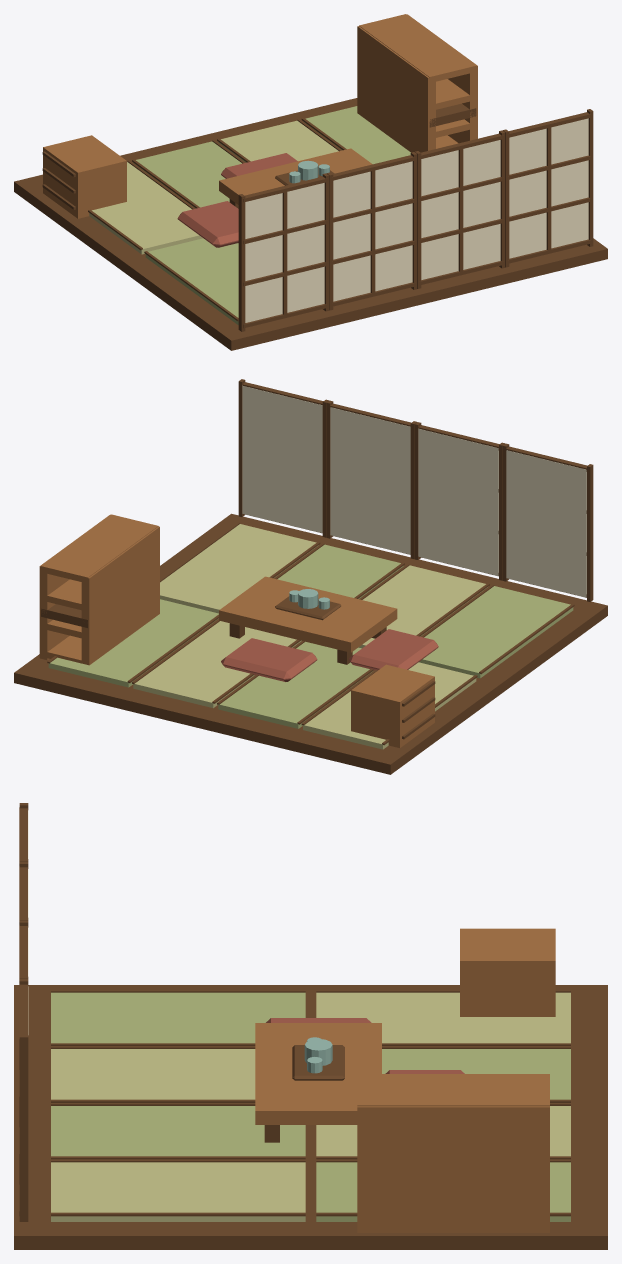
The model's file is grandma_interior.glb.
3 views of the same model, one above another, from view 1: azimuth 30°, elevation 25°; view 2: azimuth 150°, elevation 25°; view 3: azimuth 270°, elevation 25° (orthographic). The views are drawn at different scales.
Visible parts, largest first — view 1: FloorBase, ShojiPaper_3, ShojiPaper_1, ShojiPaper_0, ShojiPaper_2, ShelfLeft, SmallChest, Tatami_1_0, Tatami_0_0, Tatami_1_1, Shelf_1.75, Tatami_1_2 (+32 smaller); view 2: FloorBase, ShojiPaper_0, ShojiPaper_2, ShojiPaper_3, ShojiPaper_1, Tatami_0_0, Tatami_0_3, ShelfLeft, LowTableTop, Tatami_1_1, Tatami_1_2, Tatami_1_3 (+20 smaller); view 3: FloorBase, ShelfRight, Tatami_0_3, Tatami_0_0, Tatami_0_2, Tatami_0_1, LowTableTop, Tatami_1_0, SmallChest, Shelf_1.75, Tatami_1_1, Tatami_1_3 (+13 smaller).
Boxes of the visible parts, bbox=[...] form: FloorBase: bbox=[14, 98, 607, 350]; ShojiPaper_3: bbox=[509, 118, 588, 258]; ShojiPaper_1: bbox=[333, 161, 412, 301]; ShojiPaper_0: bbox=[245, 183, 324, 322]; ShojiPaper_2: bbox=[421, 140, 500, 279]; ShelfLeft: bbox=[357, 26, 435, 152]; SmallChest: bbox=[43, 135, 126, 218]; Tatami_1_0: bbox=[89, 162, 202, 254]; Tatami_0_0: bbox=[145, 238, 238, 324]; Tatami_1_1: bbox=[133, 141, 241, 208]; Shelf_1.75: bbox=[359, 14, 476, 82]; Tatami_1_2: bbox=[218, 120, 338, 162]; FloorBase: bbox=[14, 513, 607, 774]; ShojiPaper_0: bbox=[506, 450, 586, 597]; ShojiPaper_2: bbox=[330, 407, 410, 554]; ShojiPaper_3: bbox=[242, 385, 322, 533]; ShojiPaper_1: bbox=[418, 428, 498, 576]; Tatami_0_0: bbox=[419, 586, 573, 678]; Tatami_0_3: bbox=[160, 524, 318, 613]; ShelfLeft: bbox=[81, 526, 159, 665]; LowTableTop: bbox=[219, 576, 397, 652]; Tatami_1_1: bbox=[218, 641, 372, 728]; Tatami_1_2: bbox=[133, 621, 301, 708]; Tatami_1_3: bbox=[48, 599, 218, 687]; FloorBase: bbox=[14, 985, 607, 1249]; ShelfRight: bbox=[357, 1106, 549, 1232]; Tatami_0_3: bbox=[51, 1162, 305, 1221]; Tatami_0_0: bbox=[51, 992, 305, 1043]; Tatami_0_2: bbox=[51, 1106, 305, 1156]; Tatami_0_1: bbox=[51, 1049, 255, 1099]; LowTableTop: bbox=[255, 1023, 381, 1124]; Tatami_1_0: bbox=[316, 992, 570, 1043]; SmallChest: bbox=[460, 928, 555, 1016]; Shelf_1.75: bbox=[357, 1074, 549, 1106]; Tatami_1_1: bbox=[382, 1049, 570, 1099]; Tatami_1_3: bbox=[316, 1162, 570, 1221].
Bounding box in the file's own units: 7.7 × 2.92 × 7.7.
